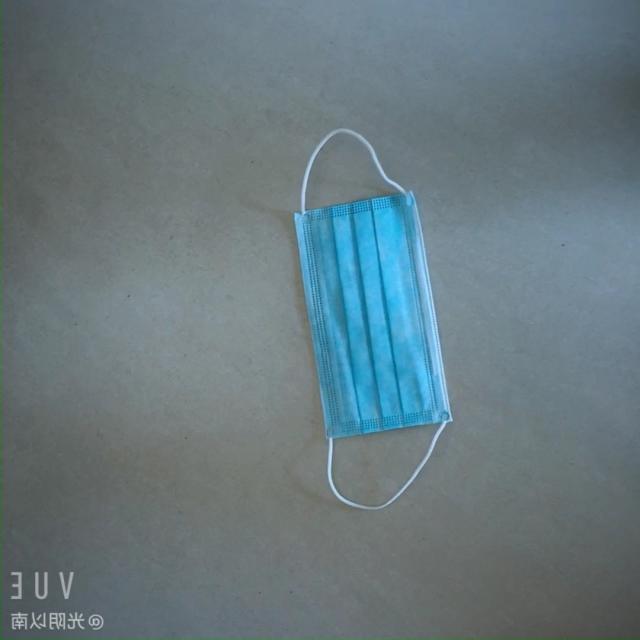face mask: (286, 184, 472, 455)
